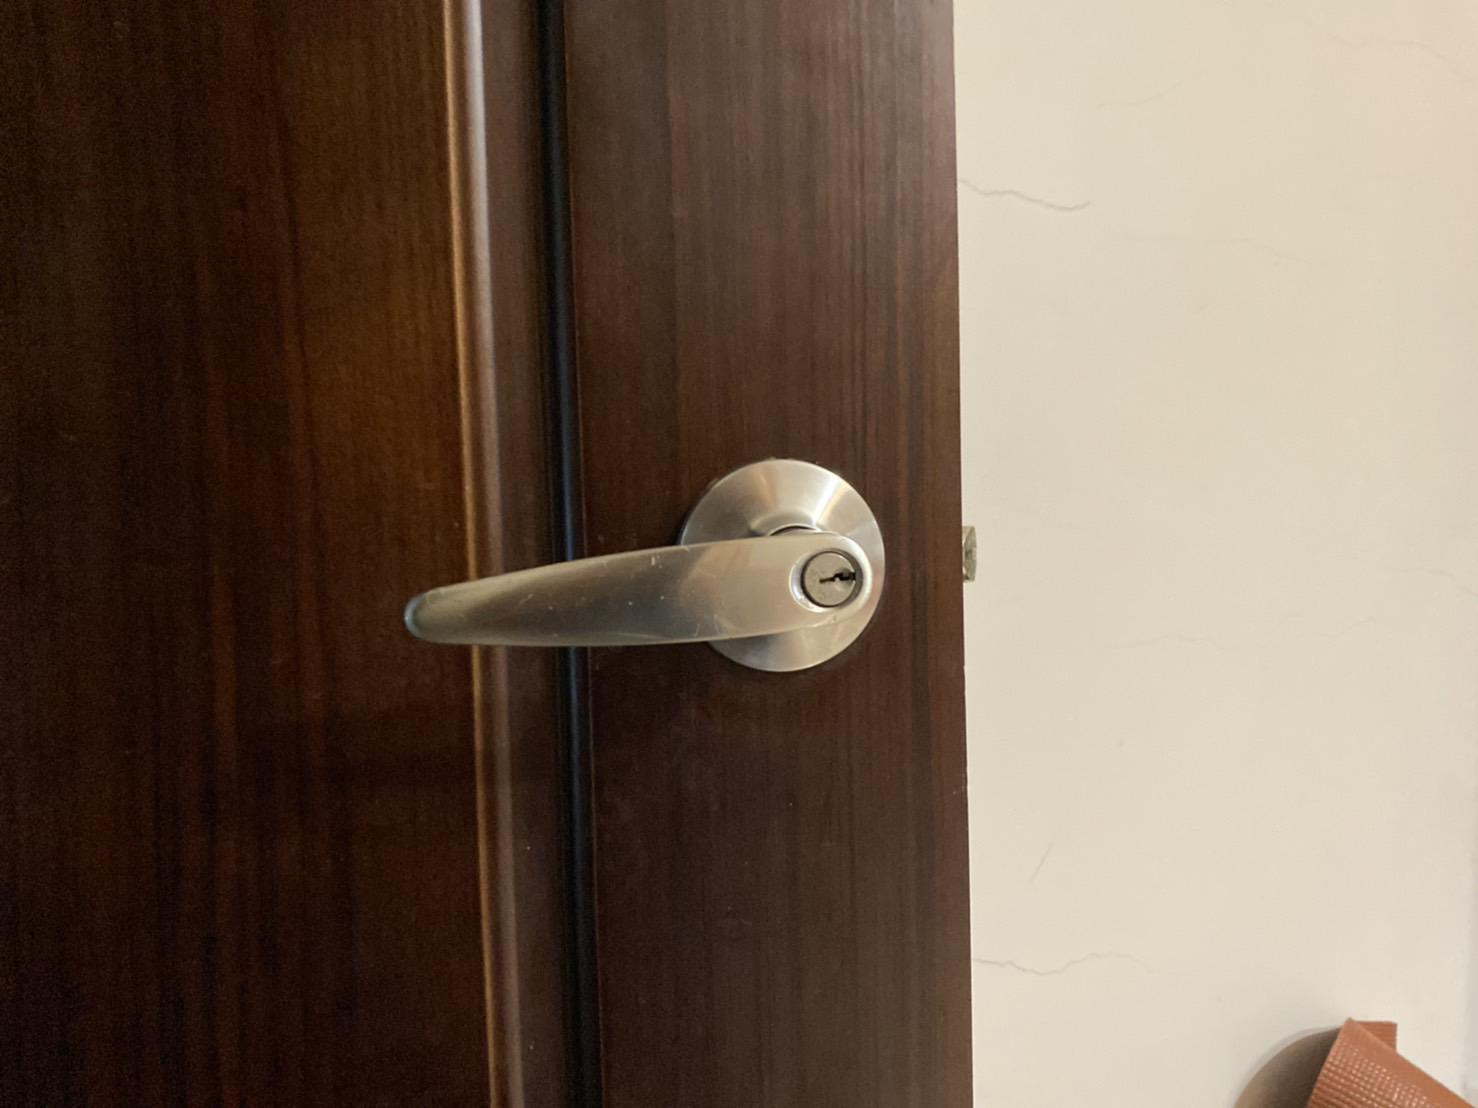doorhandle: (361, 423, 1045, 730)
